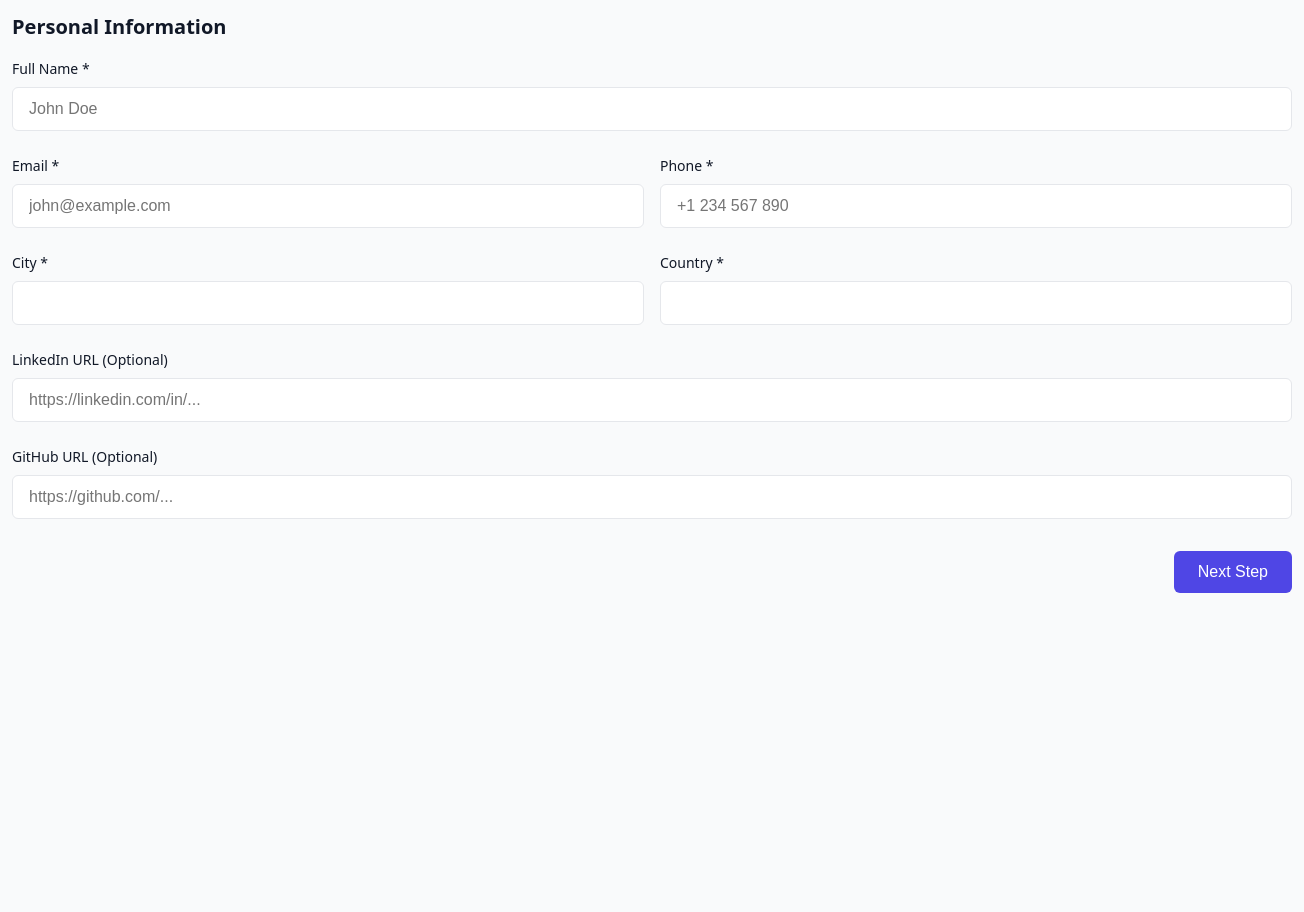
Scenario: Step1_PersonalInfo › should show validation errors when Next is clicked with empty required fields
The width and height of the screenshot is (1304, 912).
Click the button "Next Step".
click(1233, 572)  # box [1174,551,1292,593]
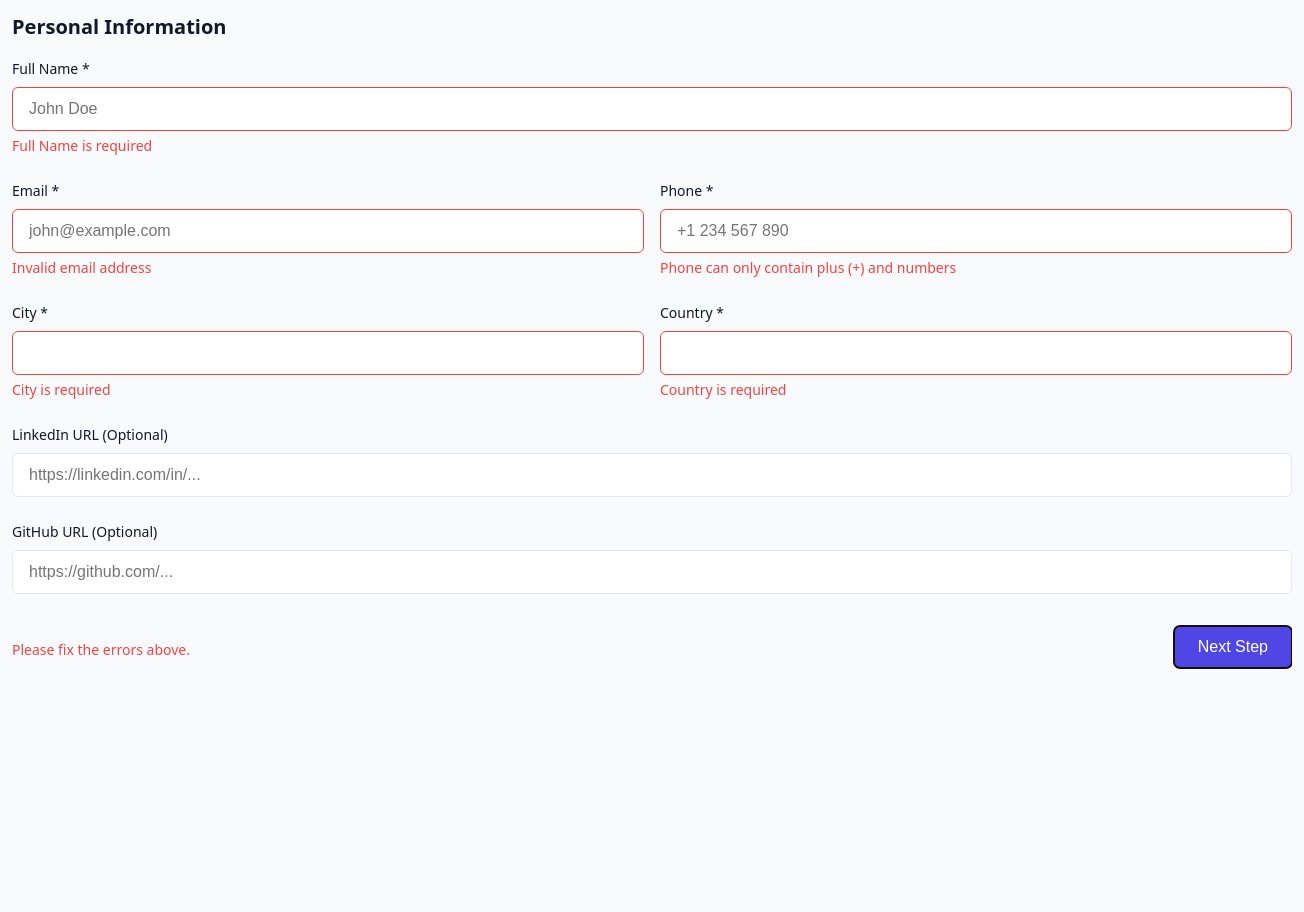
Now the text "Full Name is required" is shown, box [12,136,152,155]
